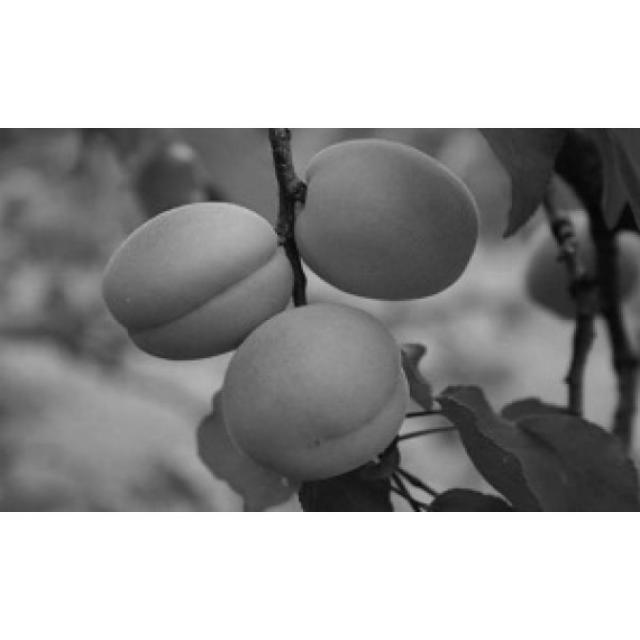Kayisi: (226, 304, 402, 473), (300, 136, 476, 299), (101, 206, 292, 353)
Kayisi Yapragi: (445, 388, 581, 515)
